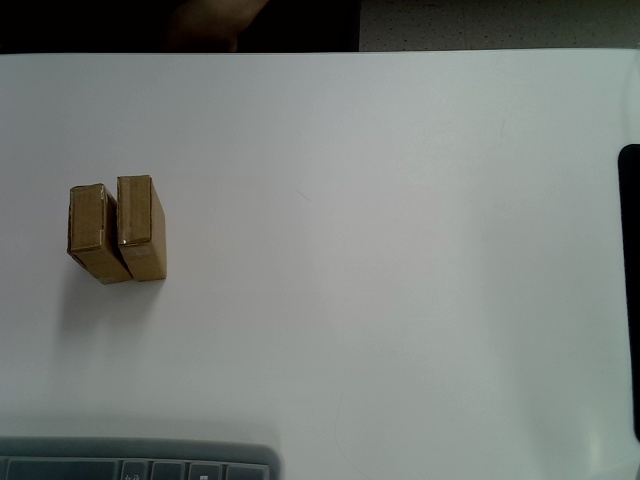normal: (69, 183, 133, 285), (117, 174, 167, 281)
